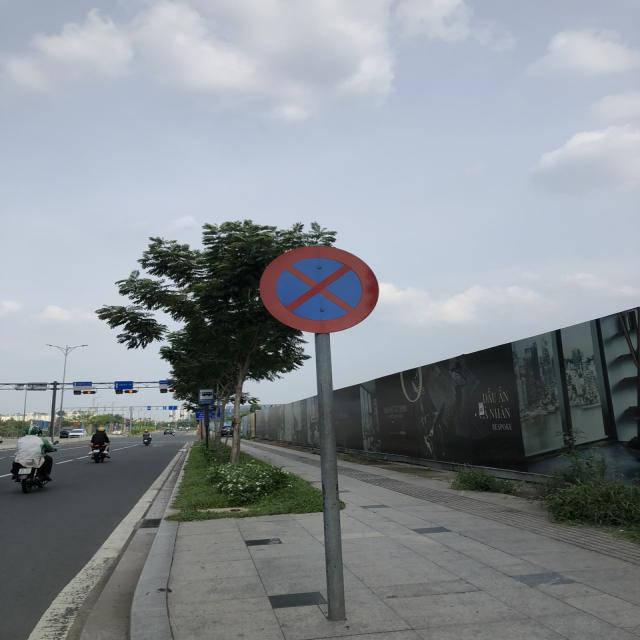Bien bao cam dung xe va do xe: (254, 237, 387, 343)
